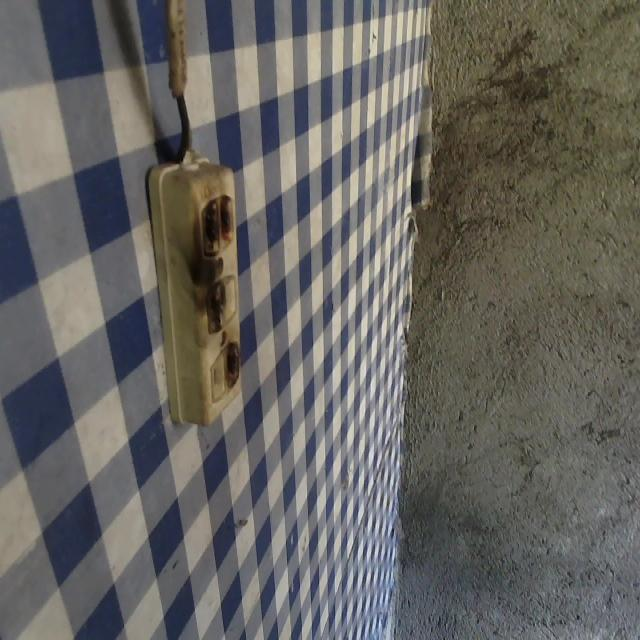-: (199, 191, 234, 248), (207, 278, 225, 334), (222, 342, 240, 386)
